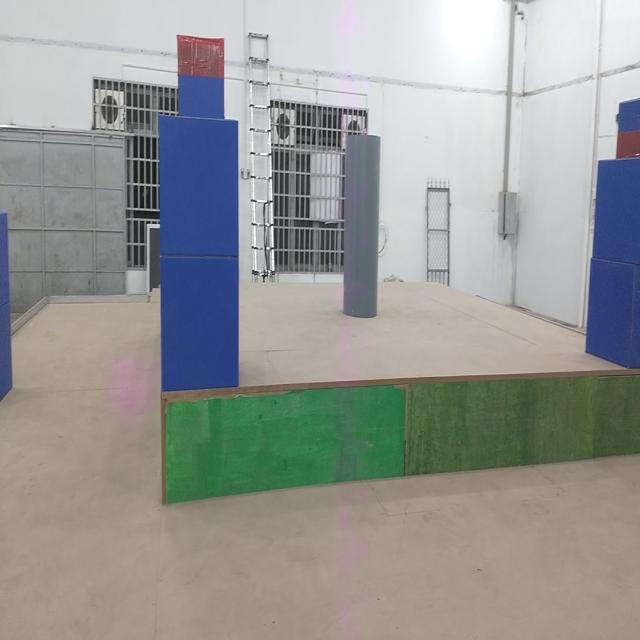earth_block: (157, 117, 240, 256), (160, 257, 240, 390), (582, 261, 640, 370), (590, 157, 640, 260)
sky_block: (176, 35, 226, 120), (614, 96, 640, 158)
